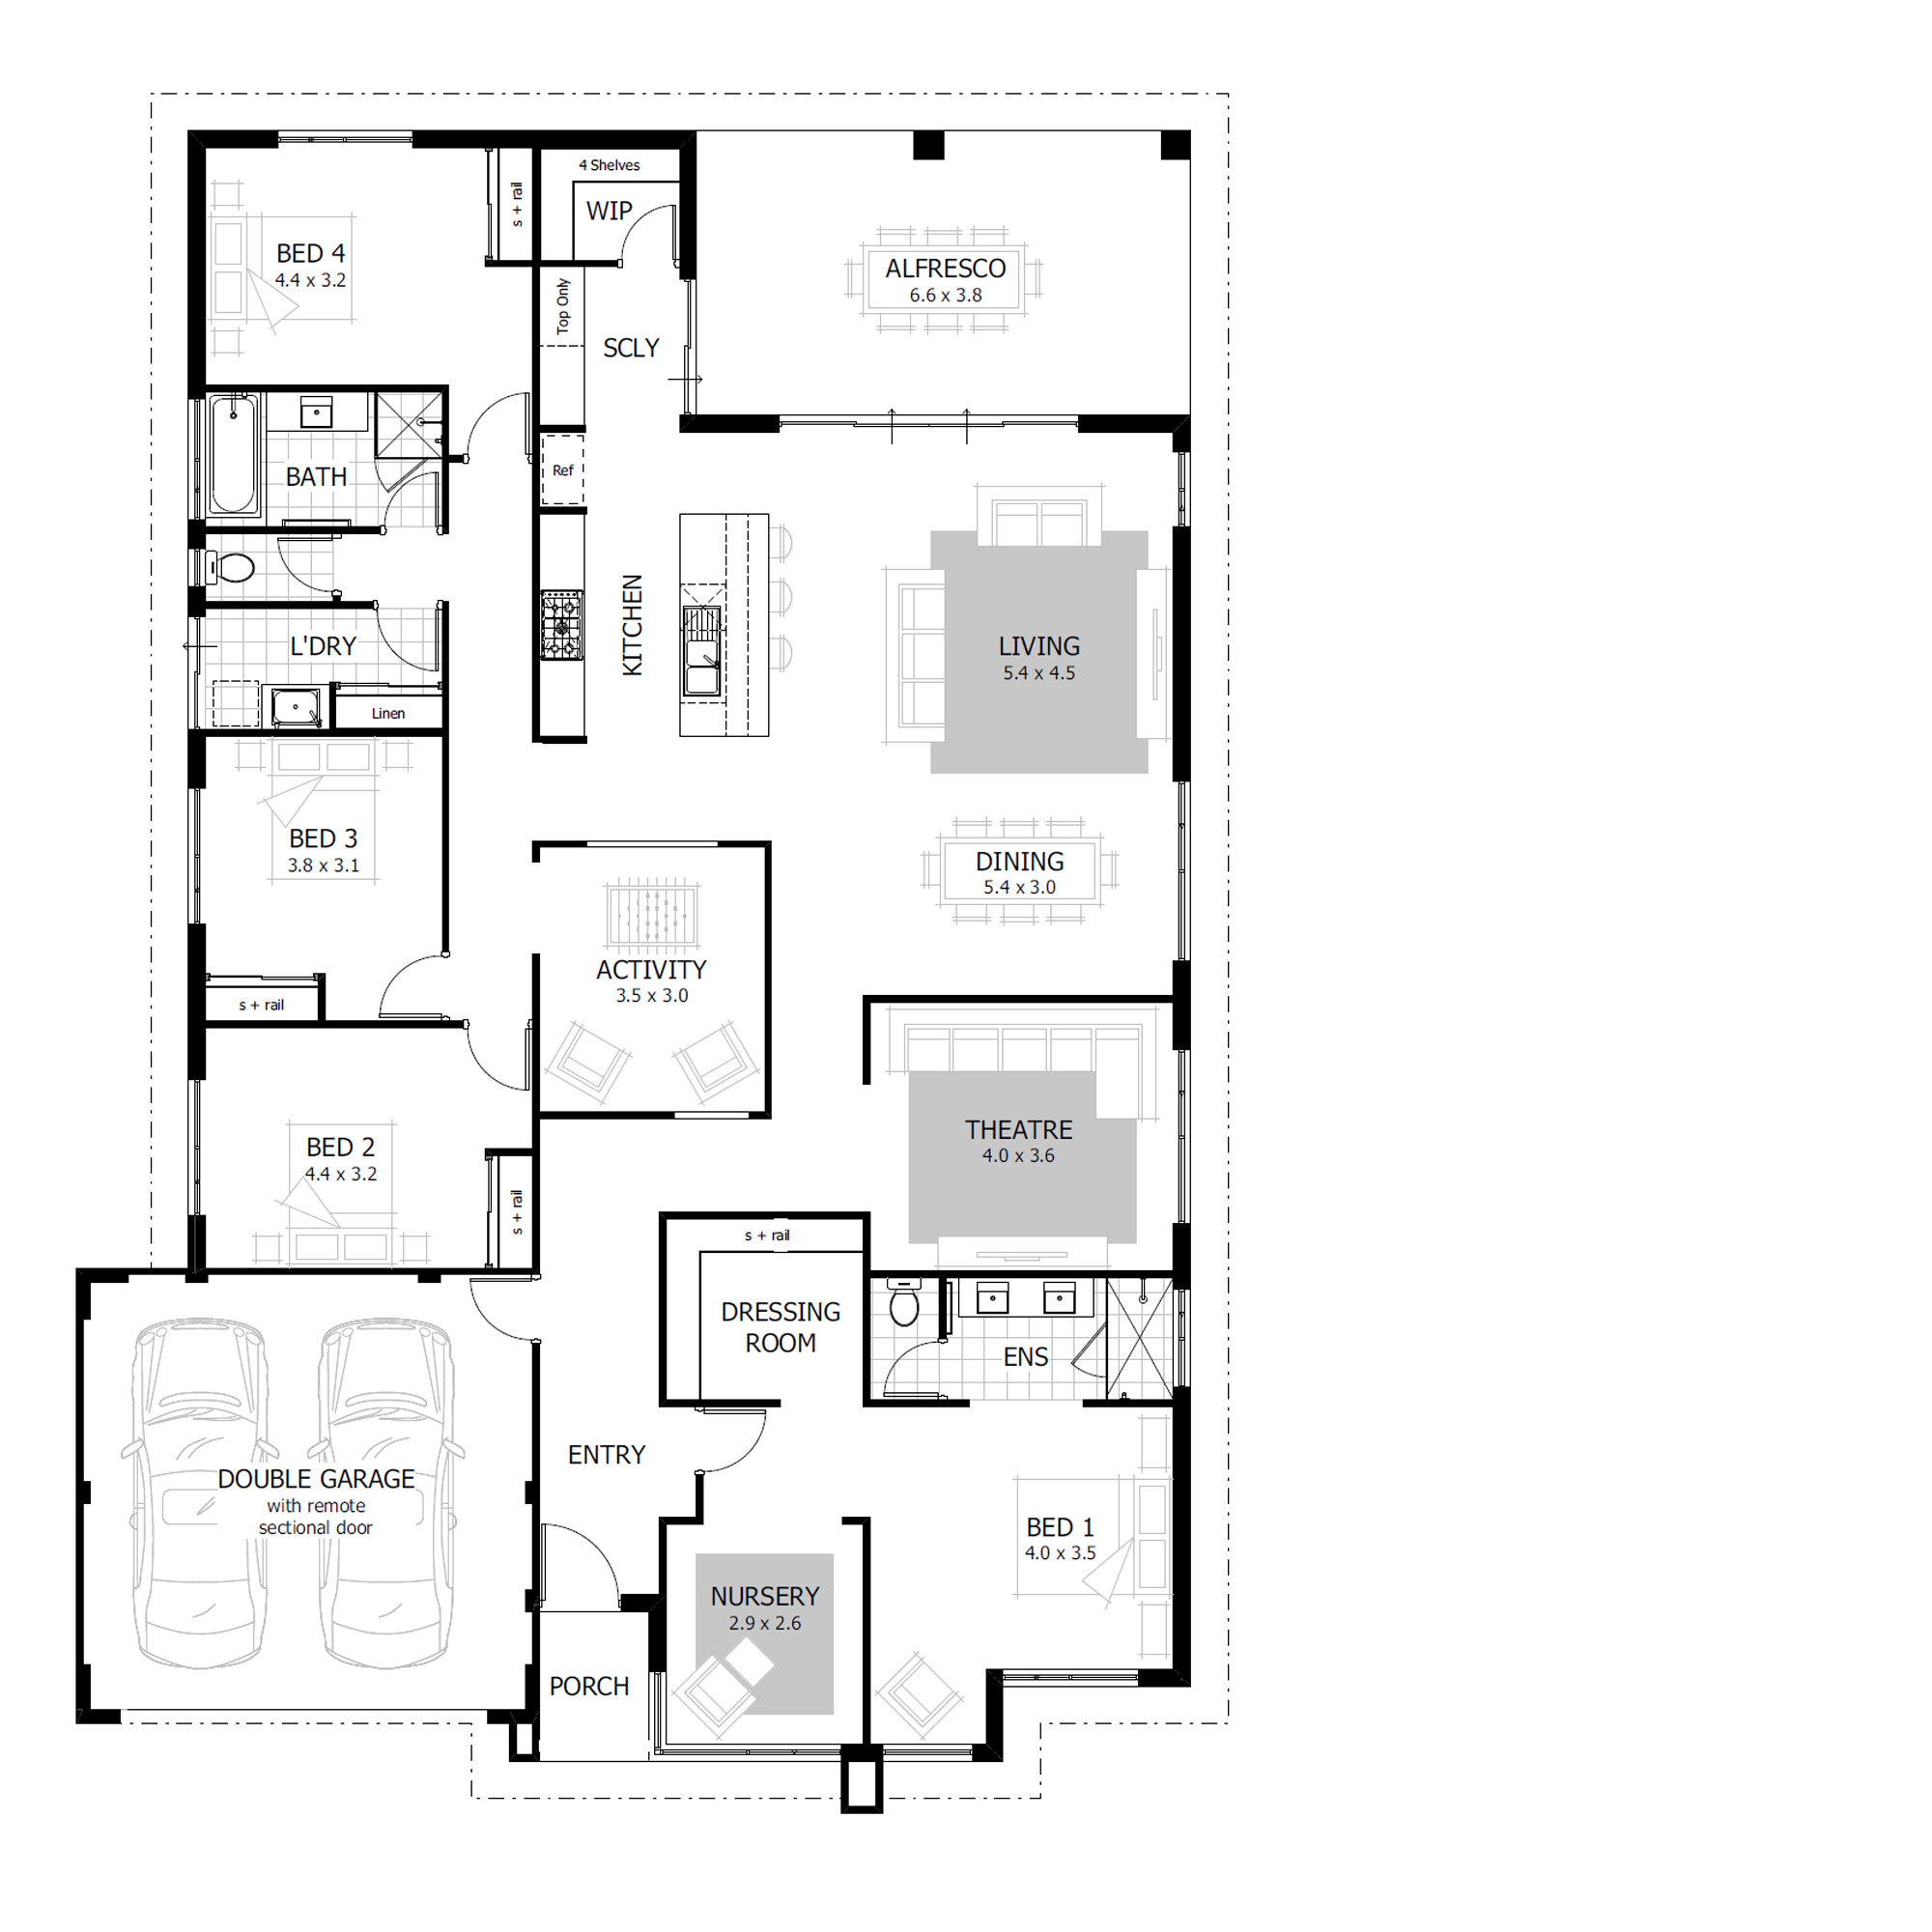window: (1169, 778, 1194, 962), (1169, 1044, 1194, 1228), (274, 127, 416, 152), (1000, 1667, 1141, 1691), (186, 786, 209, 927), (186, 1077, 209, 1219), (186, 396, 207, 520), (186, 610, 207, 734), (881, 1743, 975, 1766), (1171, 1288, 1191, 1389), (1169, 448, 1192, 531)
